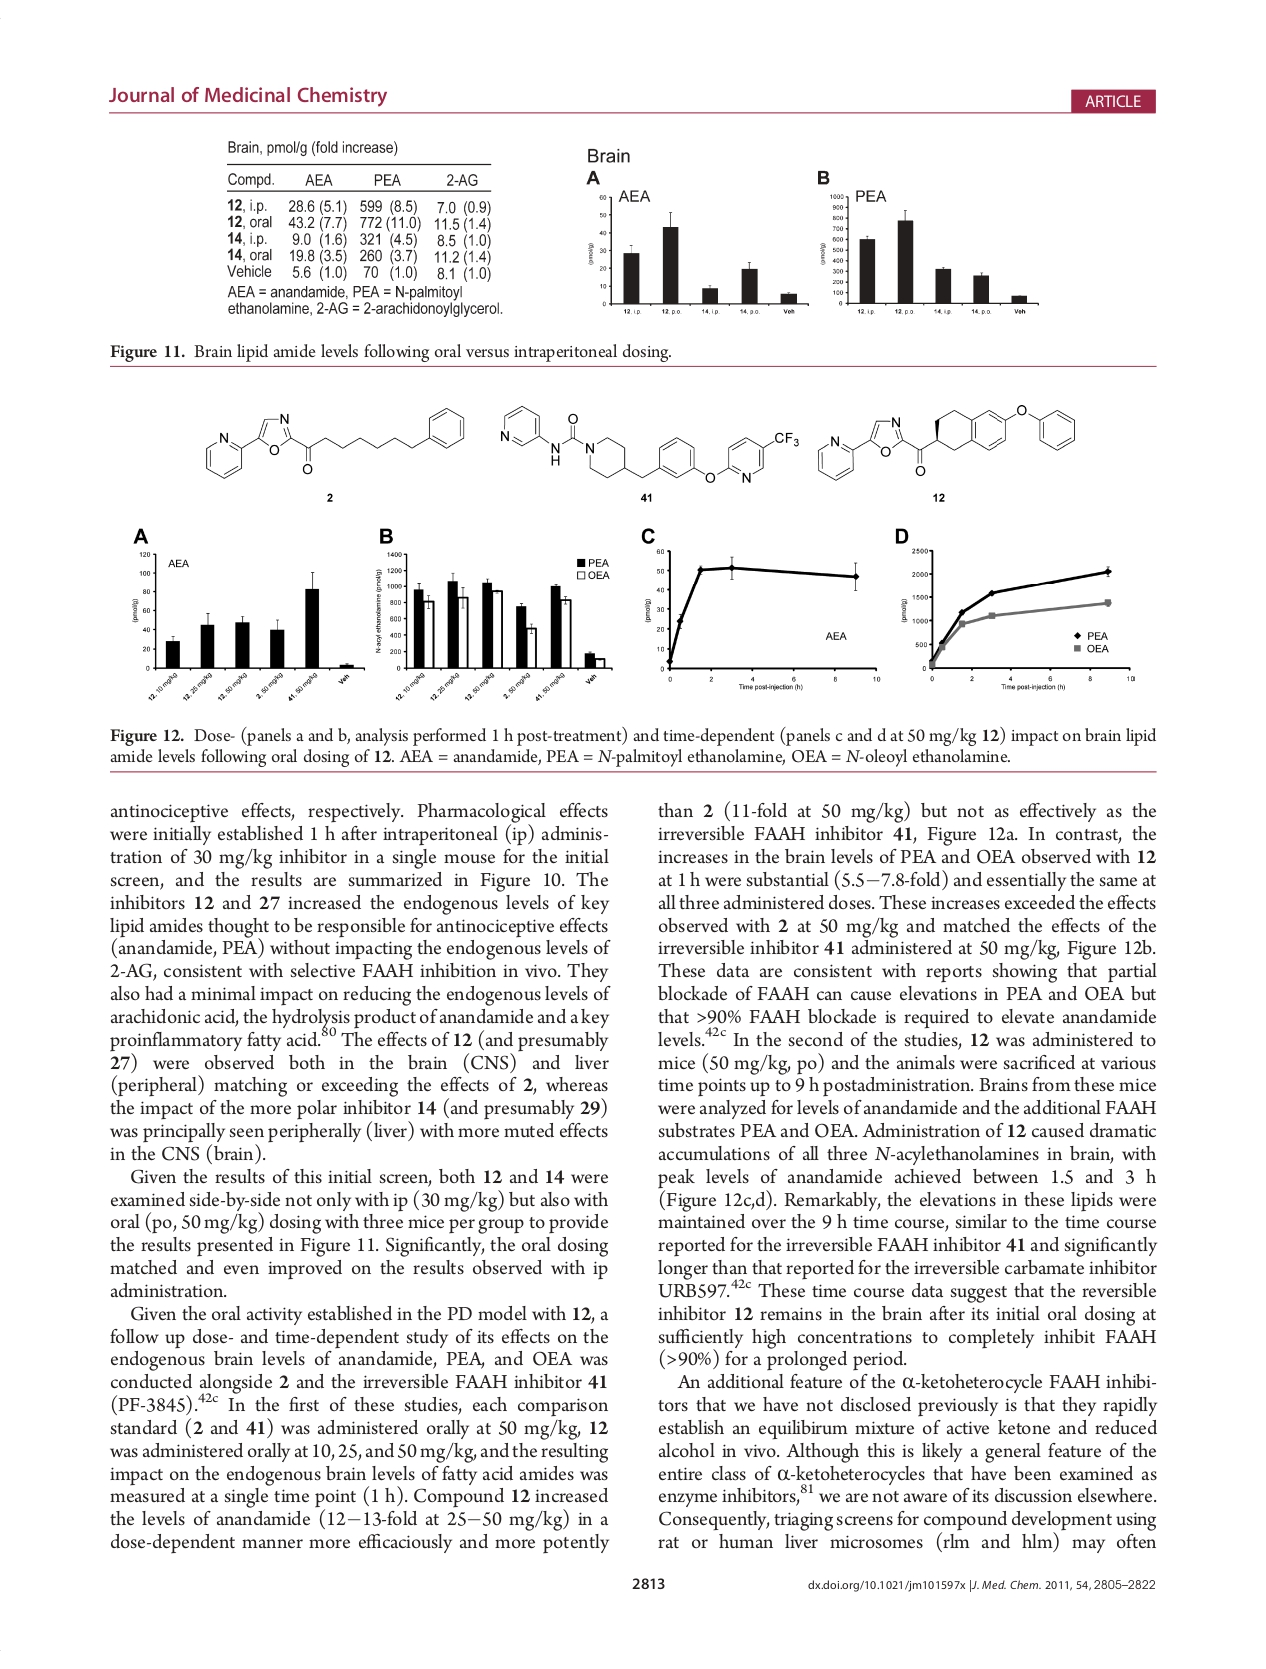exist_molecular: (496, 402, 803, 485), (813, 402, 1078, 485), (203, 404, 468, 481)
